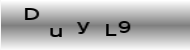9: (118, 20, 131, 34)
D: (23, 8, 40, 21)
L: (104, 23, 117, 37)
u: (48, 26, 63, 38)
y: (76, 21, 90, 35)
